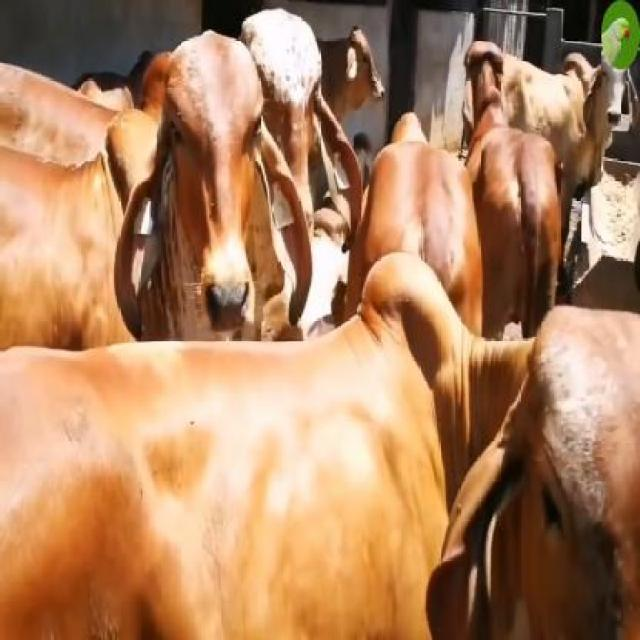Cow: (120, 23, 289, 335)
